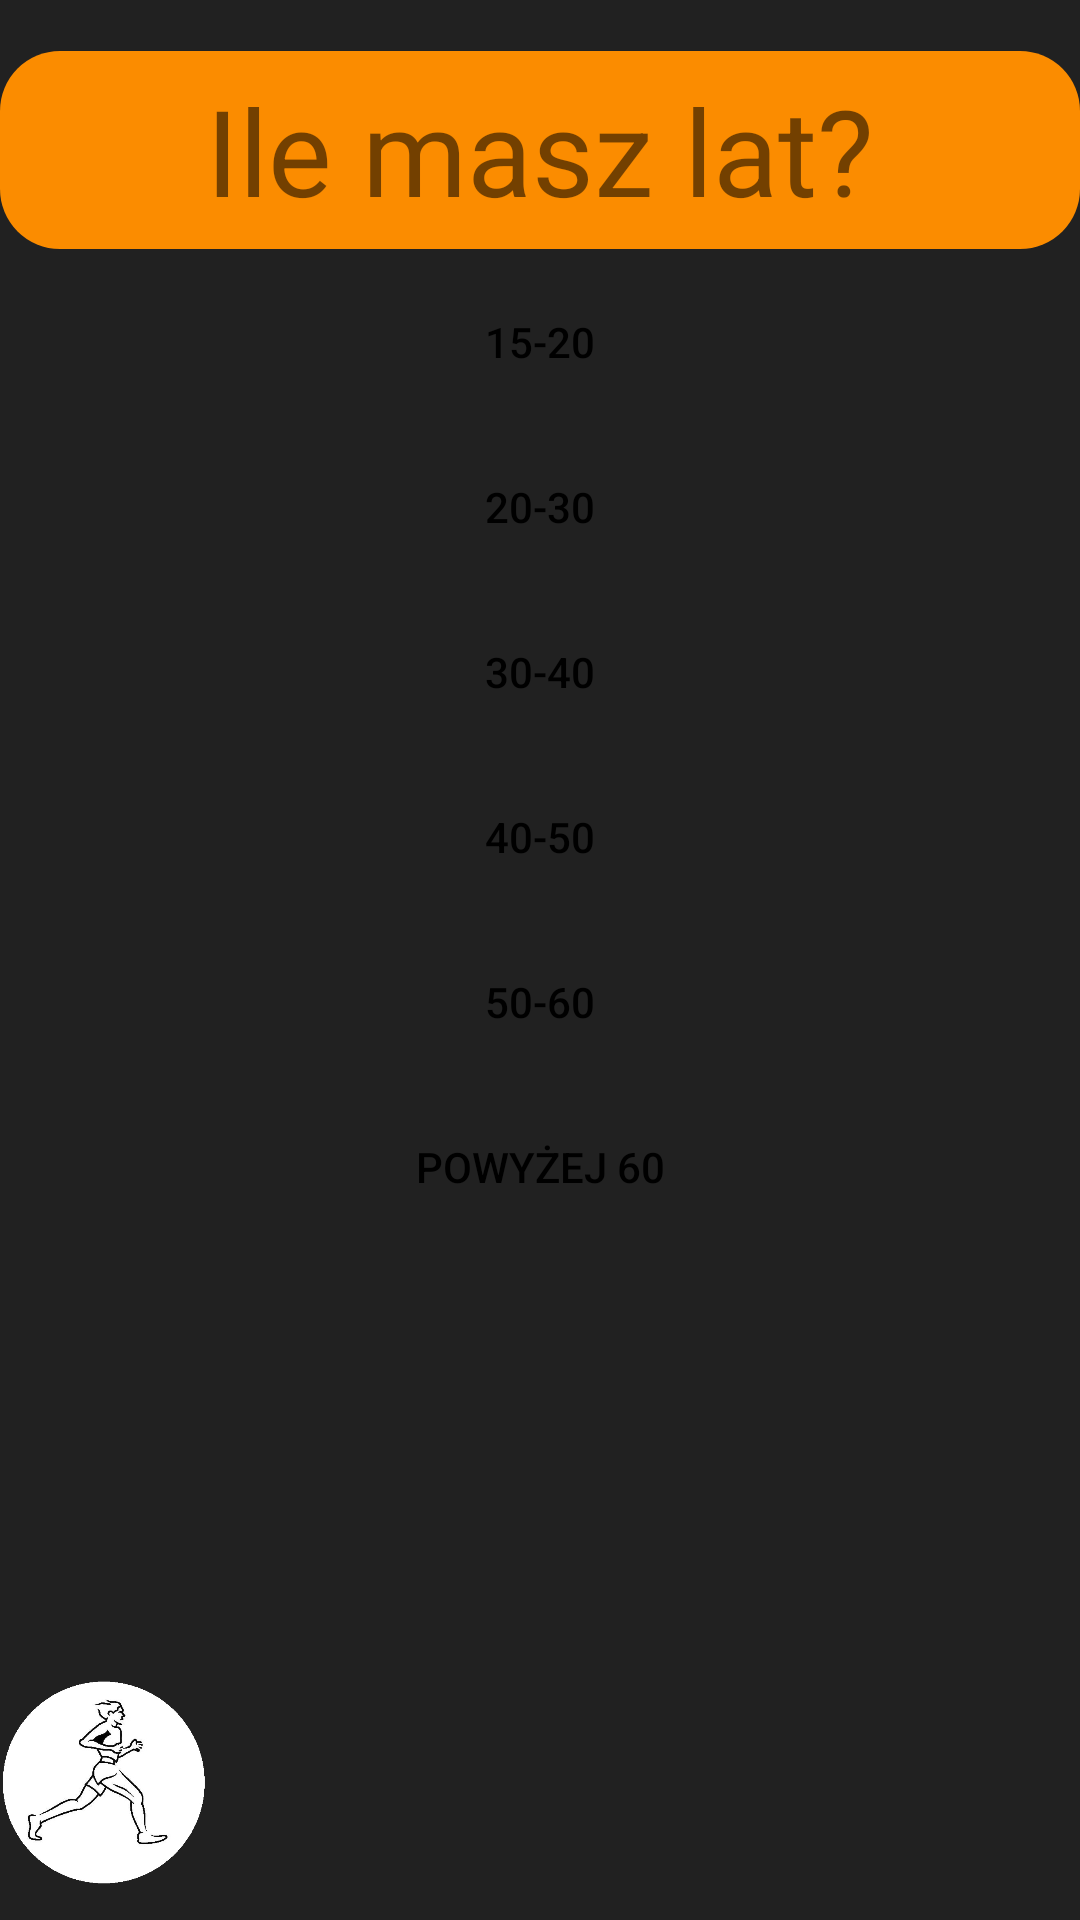

Screen size 1080x1920. Icon name, then its center in pixels as point (x, y):
biegaczz: point (104, 1782)
